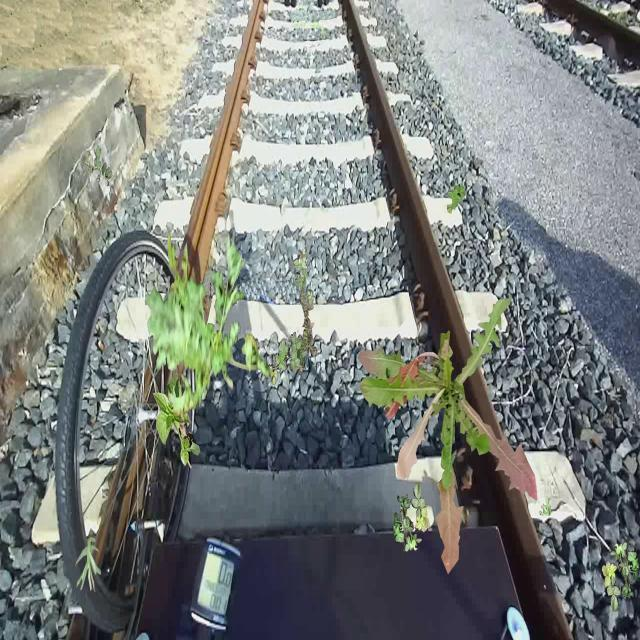Plant: (358, 297, 538, 575), (145, 229, 270, 425), (269, 247, 318, 385), (153, 374, 201, 469), (602, 539, 640, 612), (393, 482, 430, 556), (75, 536, 101, 592), (85, 145, 112, 186), (447, 181, 466, 214), (539, 496, 553, 516)
